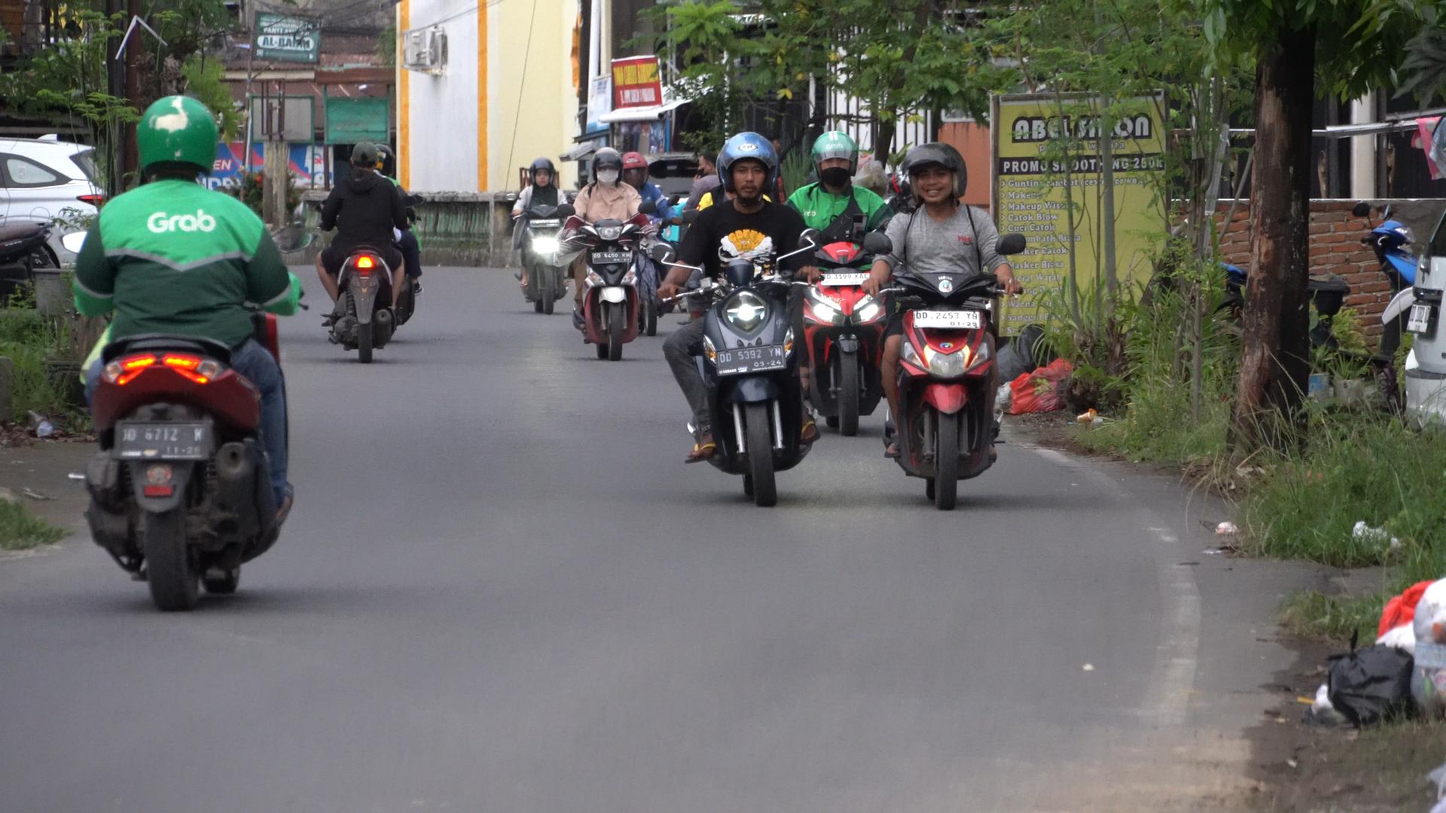number-plate: (708, 340, 785, 384), (913, 309, 982, 329), (587, 247, 638, 266)
